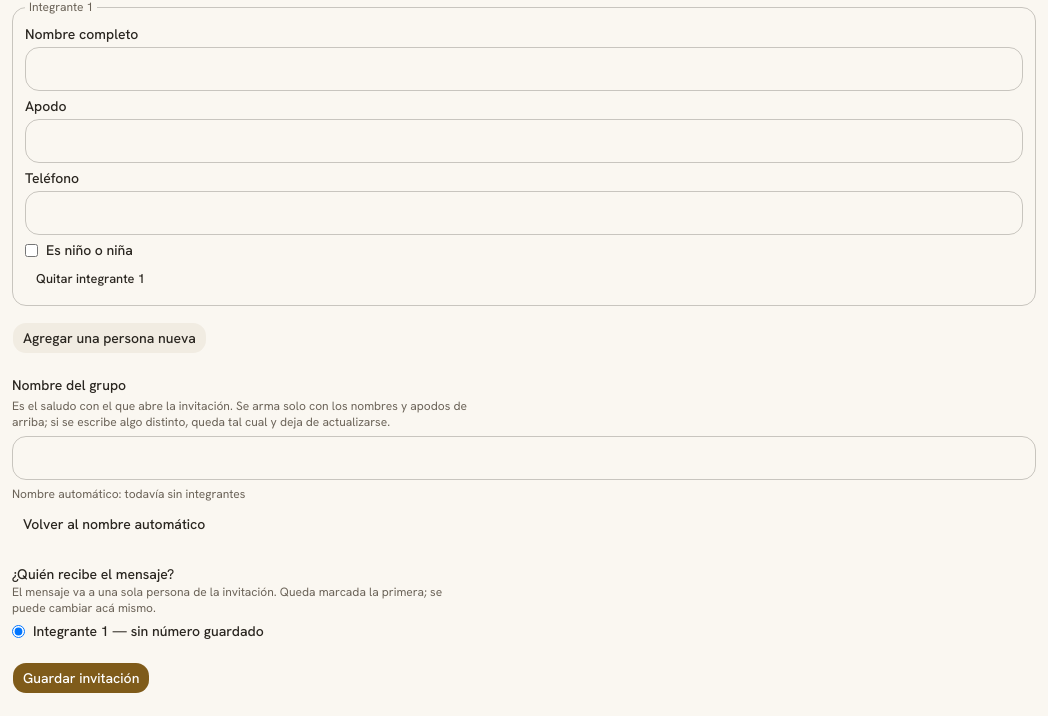
Test: InvitationForm's live derived group name › re-derives the name as names are typed, with the server's own function
Type "Luis Guzmán" into the field labelled "Nombre completo".
click(524, 69); type("Luis Guzmán")  # box [25,47,1023,91]
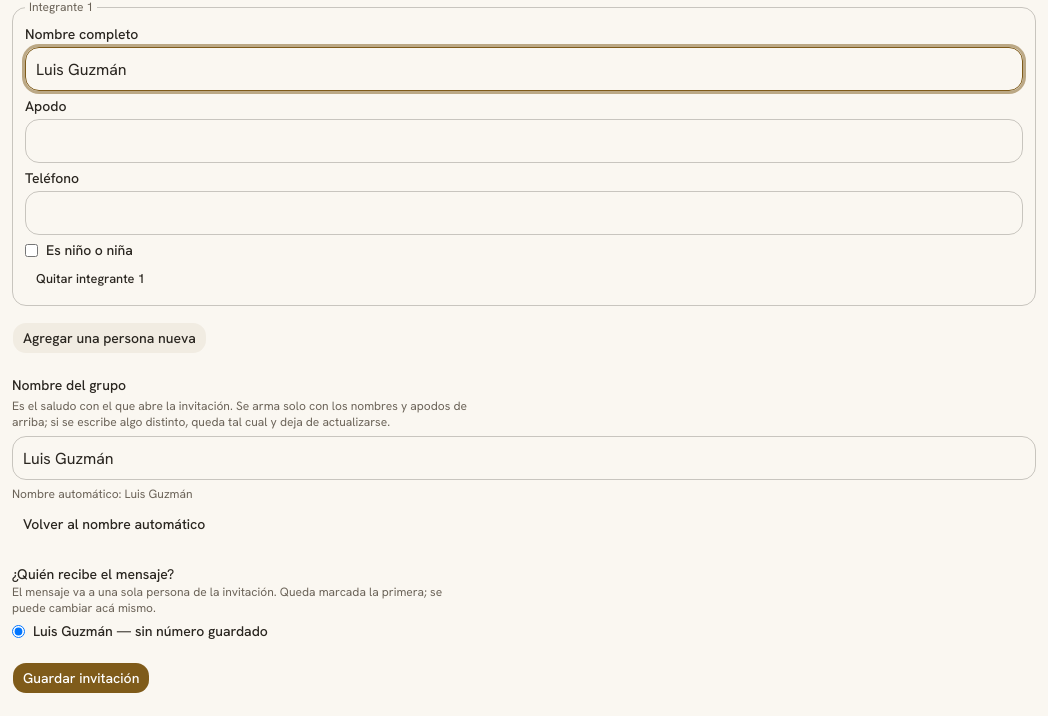
Click the button "Agregar una persona nueva".
click(109, 338)  # box [12,322,207,354]
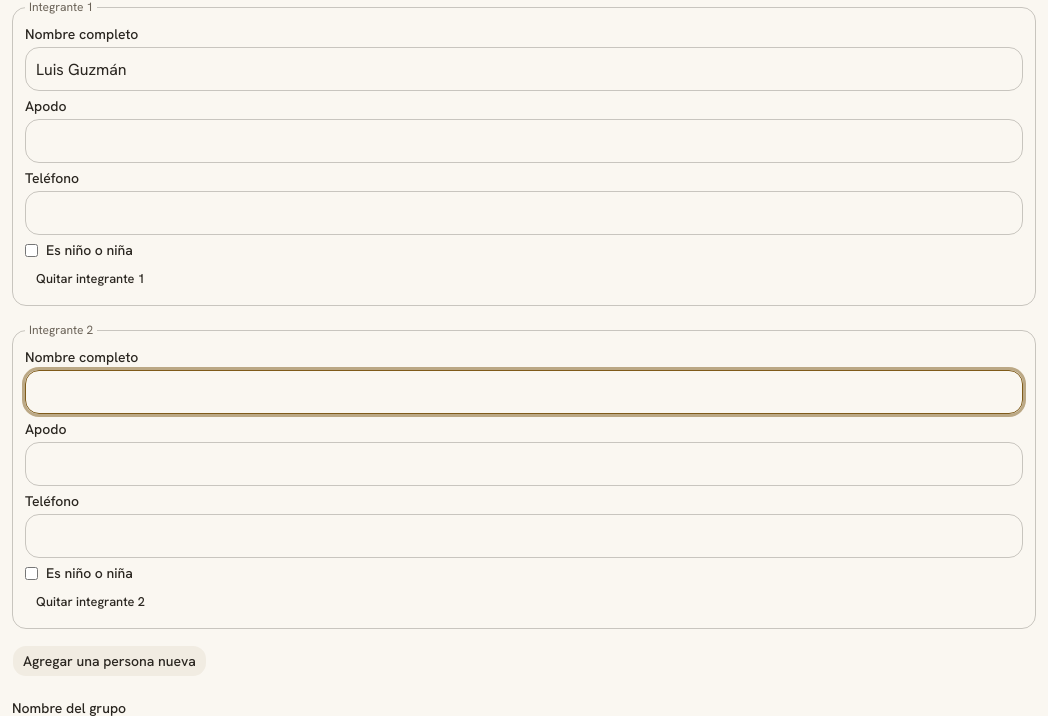
Type "Michell Ruiz" into the 2nd field labelled "Nombre completo".
click(524, 392); type("Michell Ruiz")  # box [25,370,1023,414]
(page scrolled)
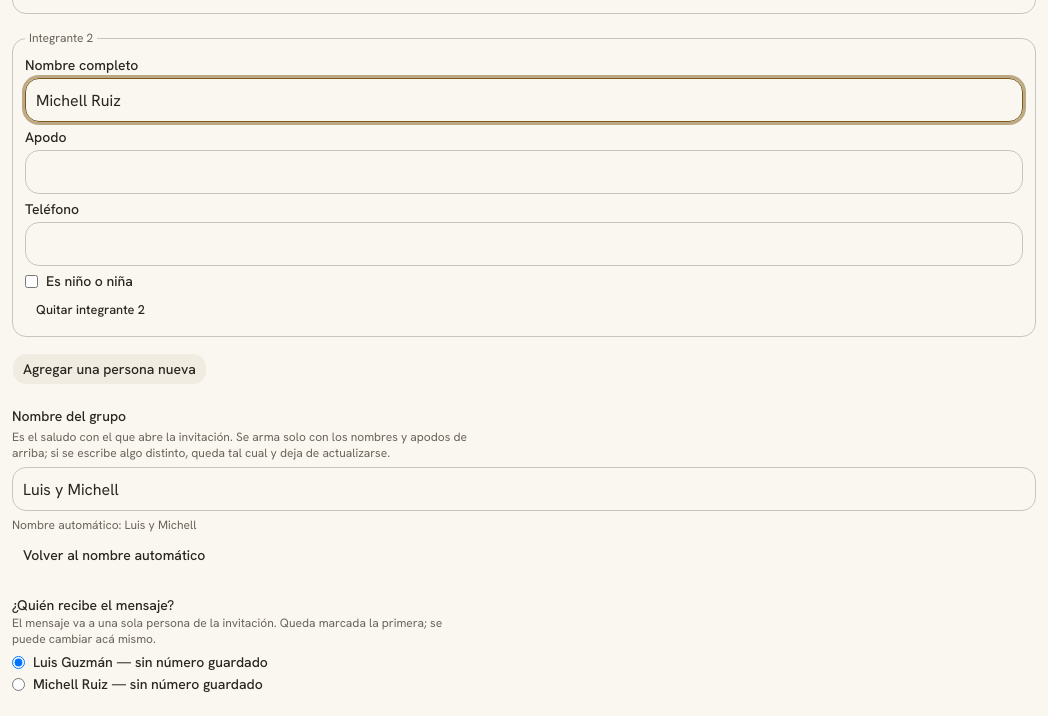
Expected: the text with test id "invitation-derived-name" shows "Luis y Michell", [125,517,196,533]
